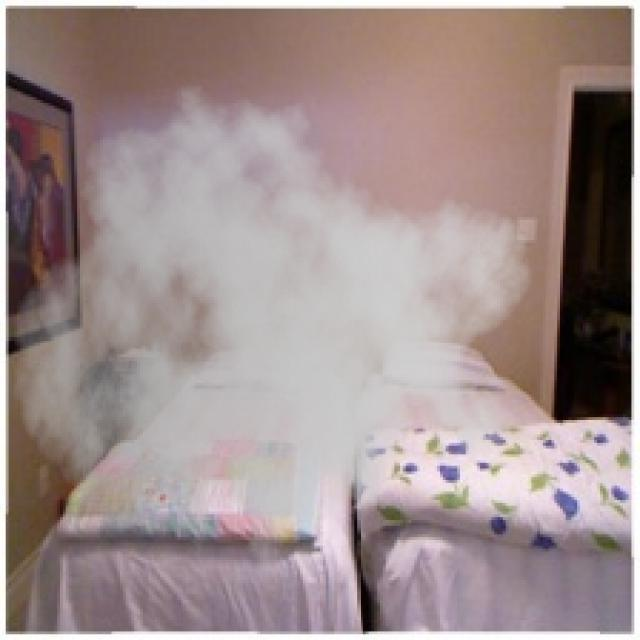Smoke: (12, 72, 534, 598)
